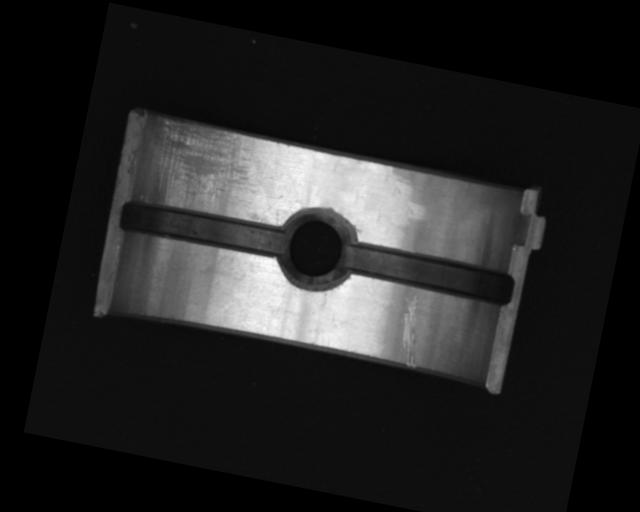gap: (342, 238, 517, 311), (116, 194, 285, 263)
hole: (272, 202, 363, 295)
nick: (391, 292, 430, 369)
scratch: (137, 112, 269, 221)
